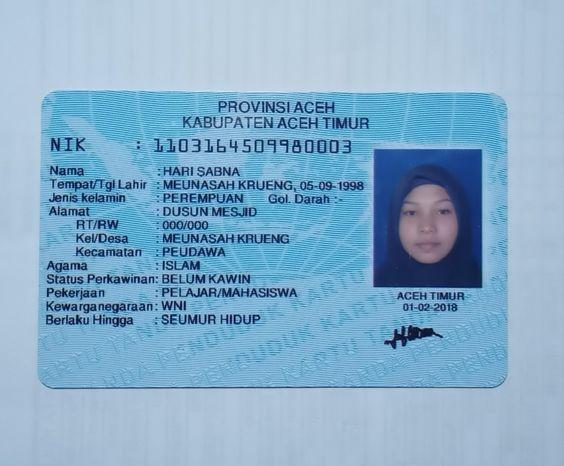ID-card: (43, 92, 506, 391)
